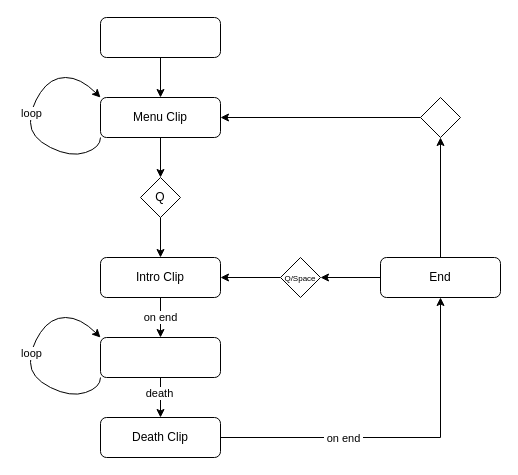
This 518x475 diagram has some shape labels left out. Each missing label, with the box of its shape:
ESC: (420, 96, 460, 138)
Main Loop: (100, 336, 220, 378)
Start: (100, 16, 220, 58)
